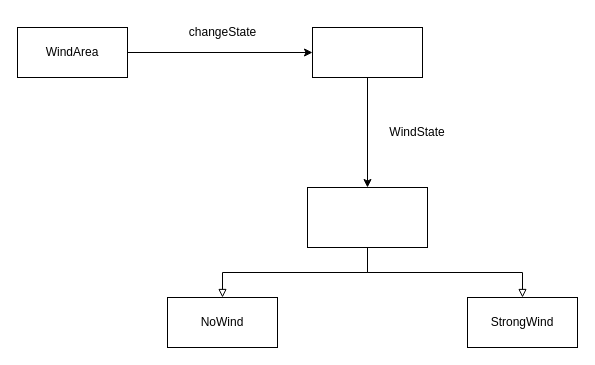
This 595x365 diagram has some shape labels left out. The centre of each missing label's shape, as x and y in pixels:
"<<abstract>> WindState" goes at [367,217].
"AeroBody" goes at [367,52].
